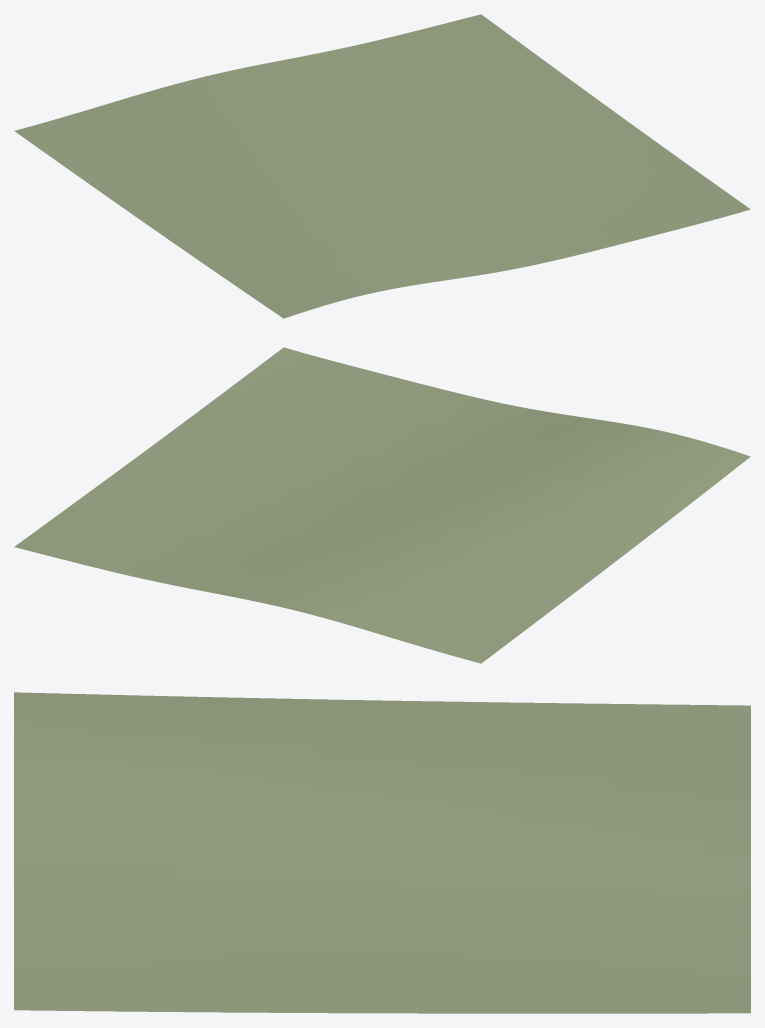
Rendered from desert-1-4.glb.
3 renders of one model, top to bottom at view 1: azimuth 30°, elevation 25°; view 2: azimuth 150°, elevation 25°; view 3: azimuth 270°, elevation 25°, orthographic. The views are drawn at different scales.
Parts seen in each view (by area): view 1: desert-1-4; view 2: desert-1-4; view 3: desert-1-4.
Part boxes in pixels (left/top/right/bottom): desert-1-4: left=14, top=14, right=750, bottom=318; desert-1-4: left=14, top=347, right=750, bottom=663; desert-1-4: left=14, top=692, right=750, bottom=1013.
Bounding box in the file's own units: 512 × 14.4 × 512.
